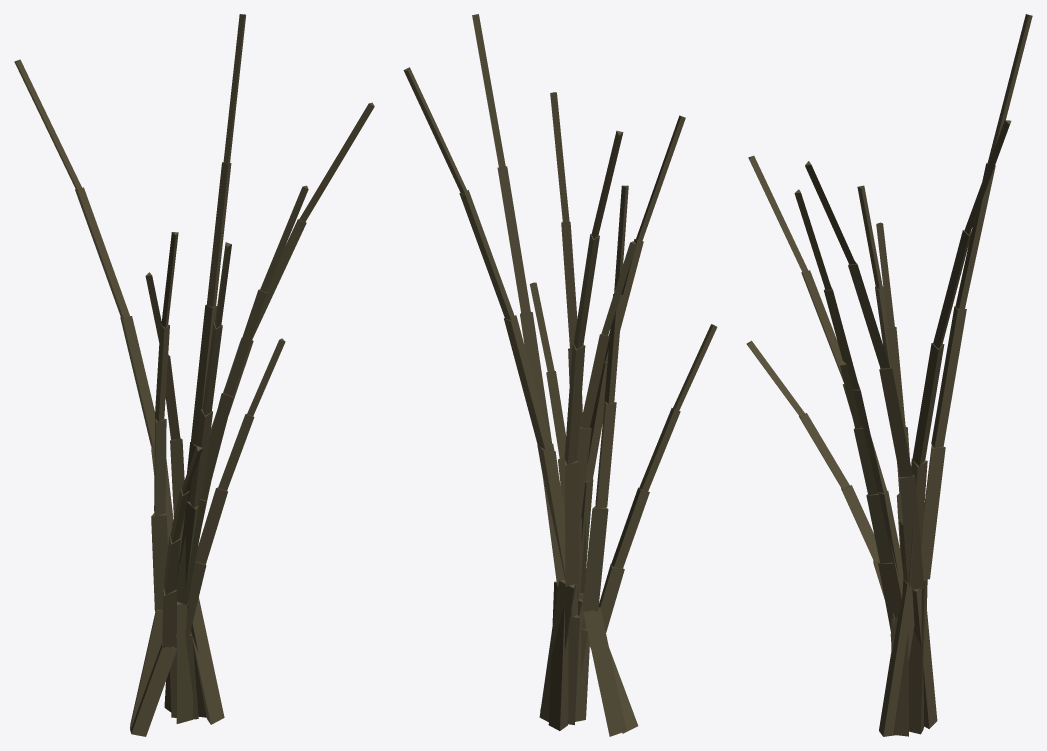
The model's file is lb_weed_C.fbx.
3 views of the same model, side by side, from view 1: azimuth 30°, elevation 25°; view 2: azimuth 150°, elevation 25°; view 3: azimuth 270°, elevation 25° (orthographic). The views are drawn at different scales.
Parts seen in each view (by area): view 1: lb_weed_C_export; view 2: lb_weed_C_export; view 3: lb_weed_C_export.
Part boxes in pixels (x1,y1,x2,y2): lb_weed_C_export: (14, 14, 374, 736); lb_weed_C_export: (403, 14, 717, 736); lb_weed_C_export: (746, 14, 1032, 736).
Size of the model in its own units: 36.75 by 90.13 by 35.36.
